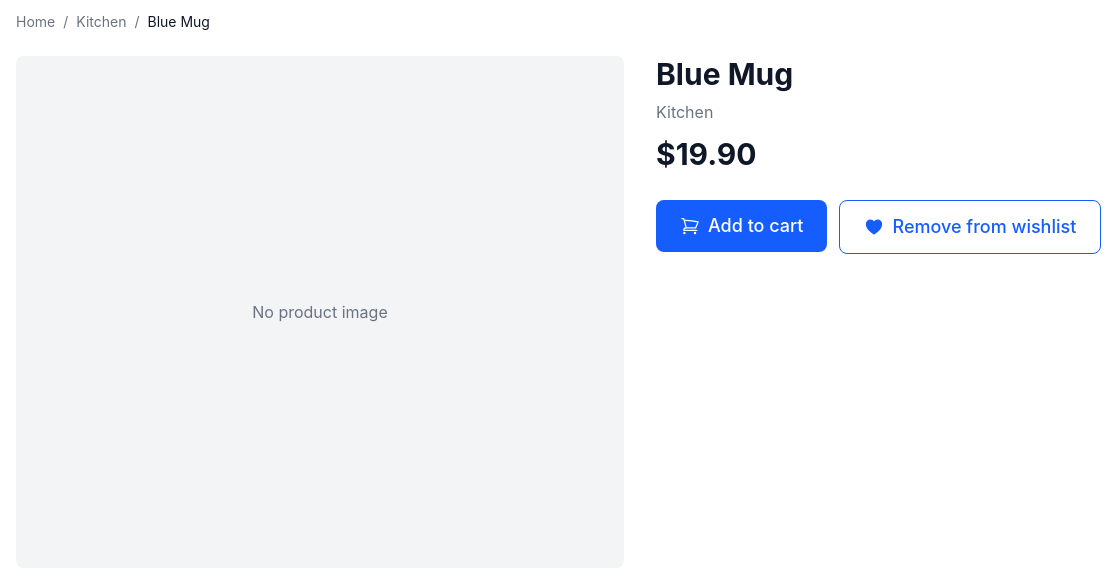
Test: ProductDetailPage wishlist button › shows 'Remove from wishlist' when the product is already present, and removes it on click
The width and height of the screenshot is (1118, 585).
Click the button "Remove from wishlist" at (970, 227), box [840,200,1101,254]
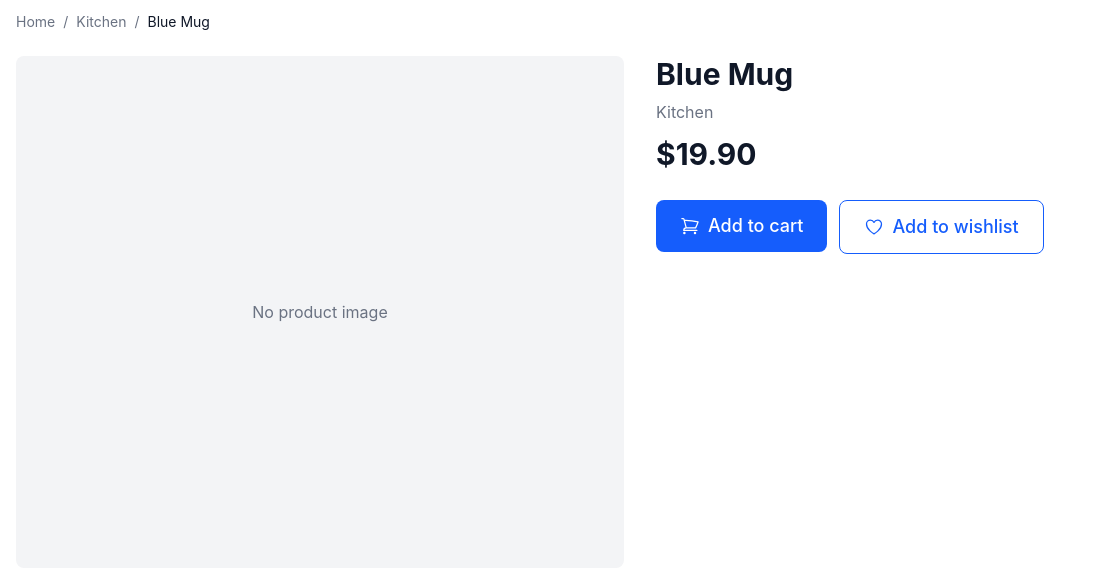
Check: the button "Add to wishlist" is shown, box [840,200,1044,254]
